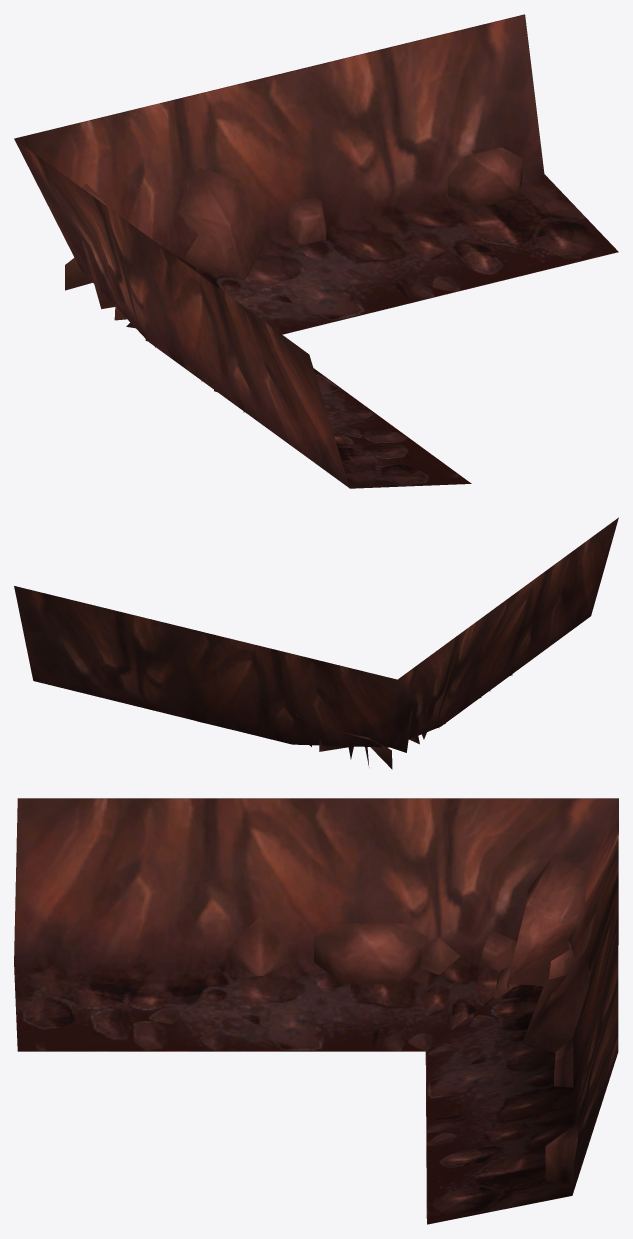
File: lava_trim_concave_01.fbx
The picture shows the model from 3 angles, top to bottom: view 1: azimuth 30°, elevation 25°; view 2: azimuth 150°, elevation 25°; view 3: azimuth 270°, elevation 25°; orthographic projection. The views are drawn at different scales.
Visible parts, largest first — view 1: lava_trim_concave_01-0; view 2: lava_trim_concave_01-0; view 3: lava_trim_concave_01-0.
Boxes of the visible parts, left/top/right/bottom form: lava_trim_concave_01-0: left=14, top=14, right=618, bottom=488; lava_trim_concave_01-0: left=14, top=517, right=618, bottom=769; lava_trim_concave_01-0: left=14, top=798, right=618, bottom=1224.
Bounding box in the file's own units: 3.62 × 1.15 × 3.65.
